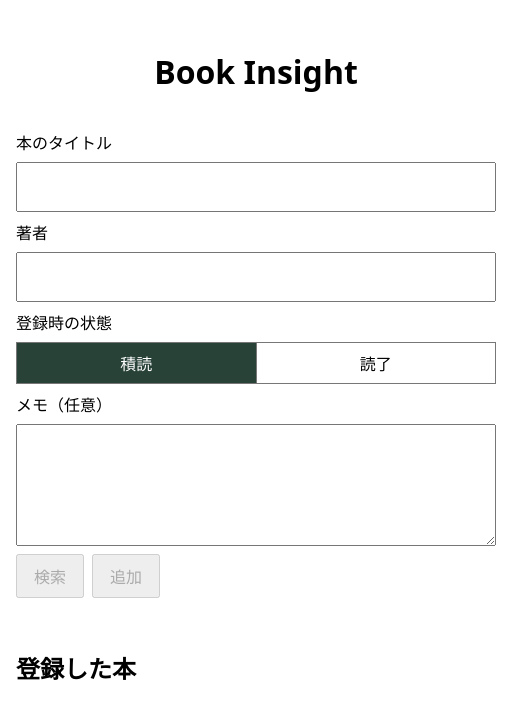
Test: App › 読了として新規登録するとき年のみ・評価・メモを選べる
This screenshot has width=513, height=705.
In the field labelled "本のタイトル": (256,187) [16, 162, 496, 212], type "こころ"
In the field labelled "著者": (256,277) [16, 252, 496, 302], type "夏目漱石"
Click the button "読了" below "登録時の状態": (376,363) [256, 342, 496, 384]
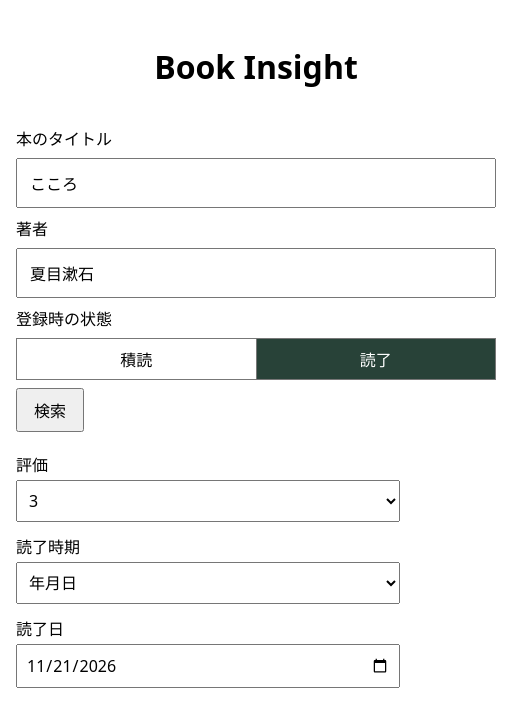
Select "5" in the dropdown labelled "評価": (208,501) [16, 480, 400, 522]
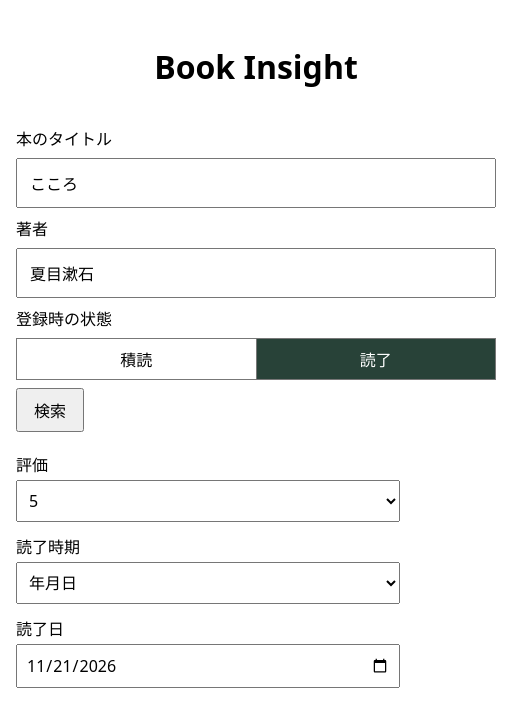
Select "年のみ" in the dropdown labelled "読了時期": (208,583) [16, 562, 400, 604]
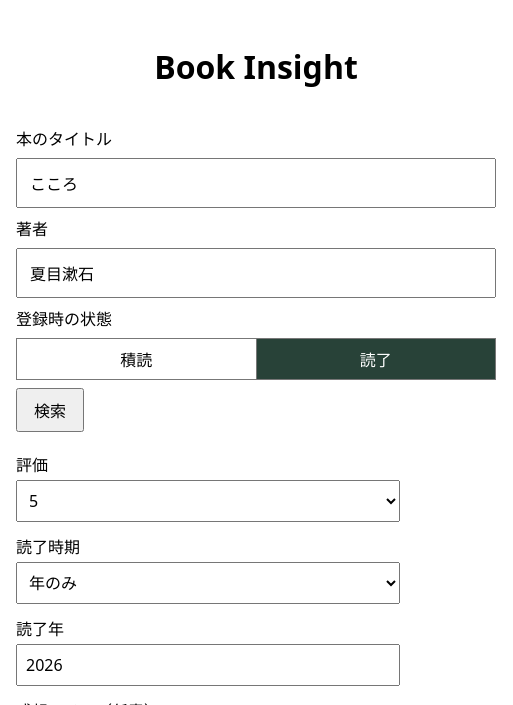
Replace the text in the field labelled "読了年" with "2019": (208,665) [16, 644, 400, 686]
(page scrolled)
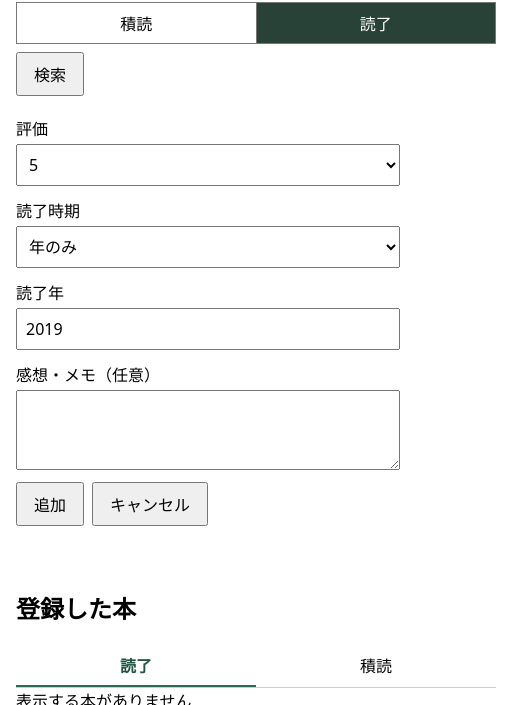
In the text box labelled "感想・メモ（任意）": (208,430) [16, 390, 400, 470], type " また読みたい "
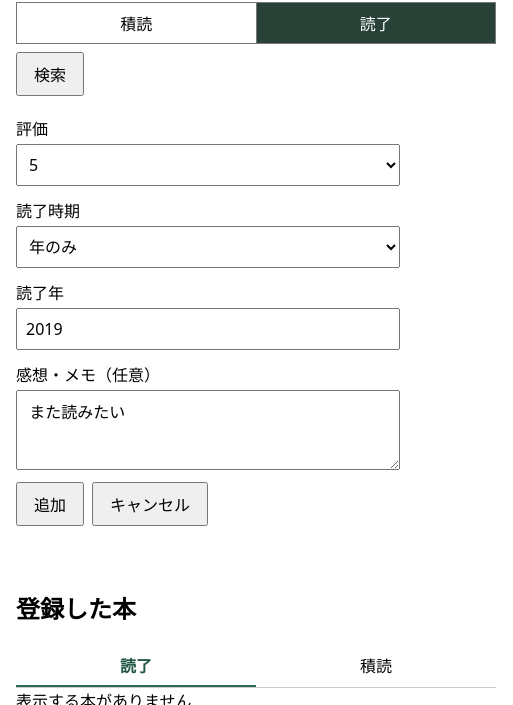
Click the button "追加": (50,504) [16, 482, 84, 526]
(page scrolled)
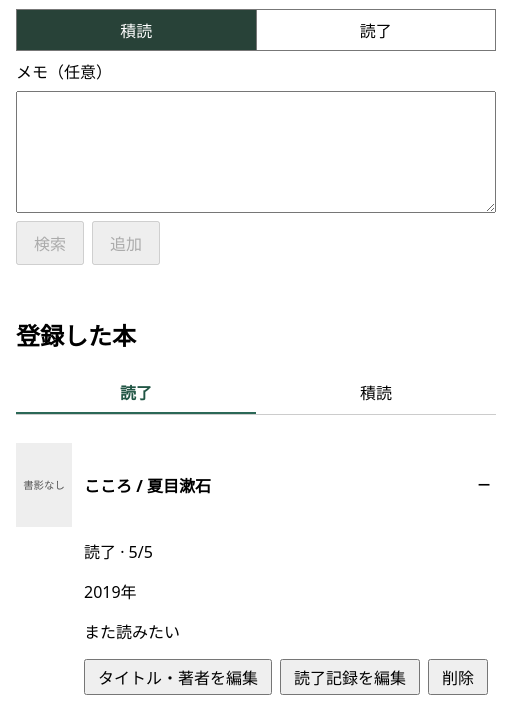
Now the text "読了 · 5/5" is shown, box [84, 541, 153, 563]
Now the text "2019年" is shown, box [84, 581, 137, 603]
Now the text "また読みたい" is shown, box [84, 621, 180, 643]
